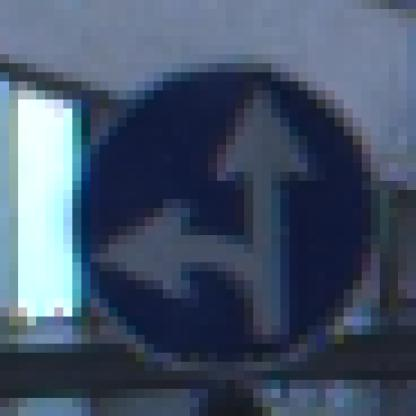Straight or Left: (55, 46, 372, 363)
